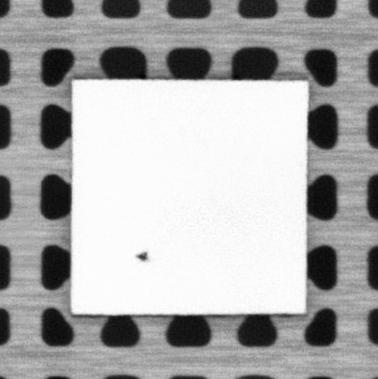DIE_INK: (135, 248, 149, 263)
